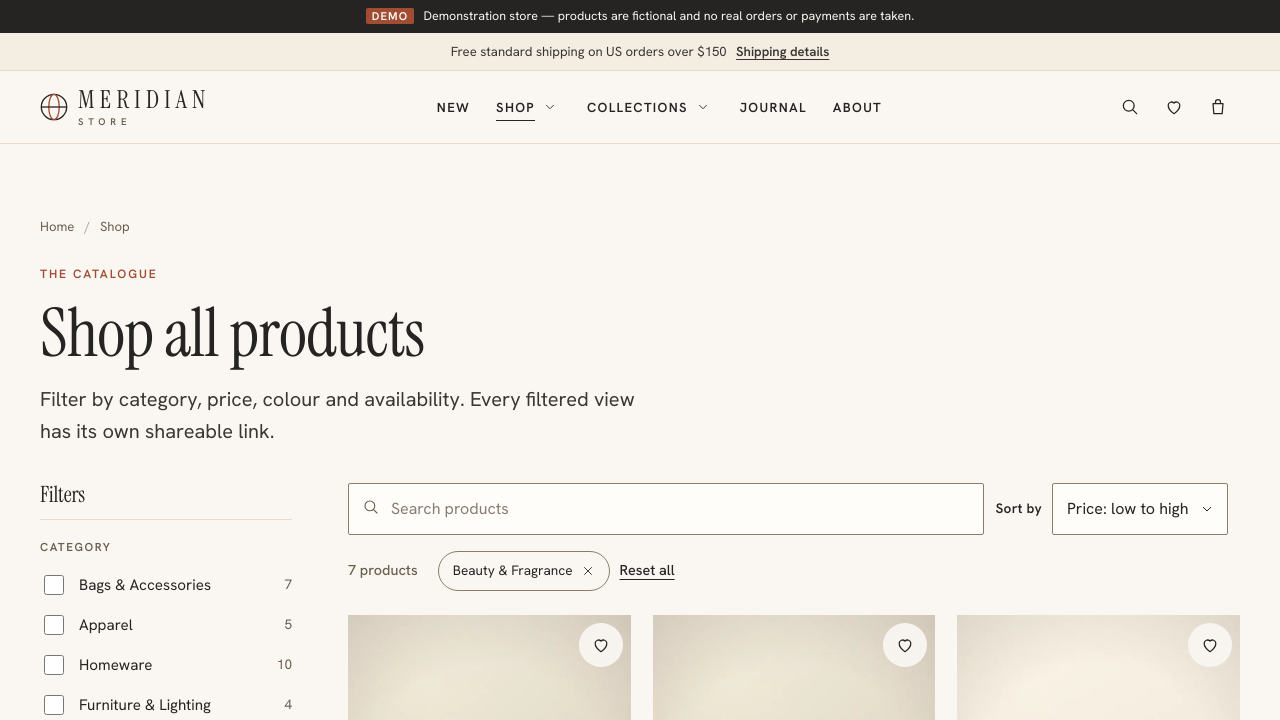
Scenario: shop filters › filters from deep links, shows chips and resets
Expected: the heading "Shop all products" is shown, [40, 289, 425, 377]
Expected: the text "7 products" is shown, [348, 559, 418, 582]
Click the button "Reset all".
click(647, 571)  # box [618, 549, 677, 593]
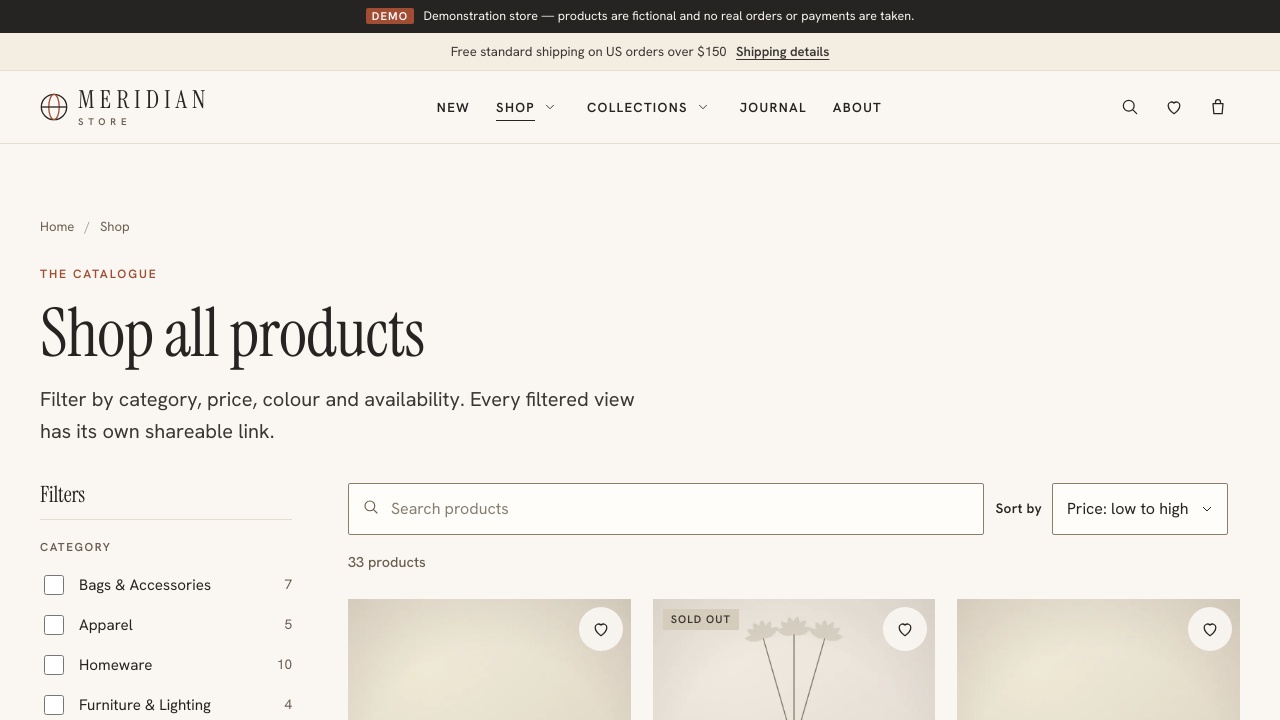
Result: the text "33 products" is shown at [348, 551, 426, 574]
